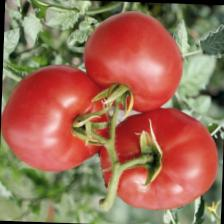tomato: (96, 104, 220, 212), (0, 61, 110, 173), (80, 8, 184, 113)
